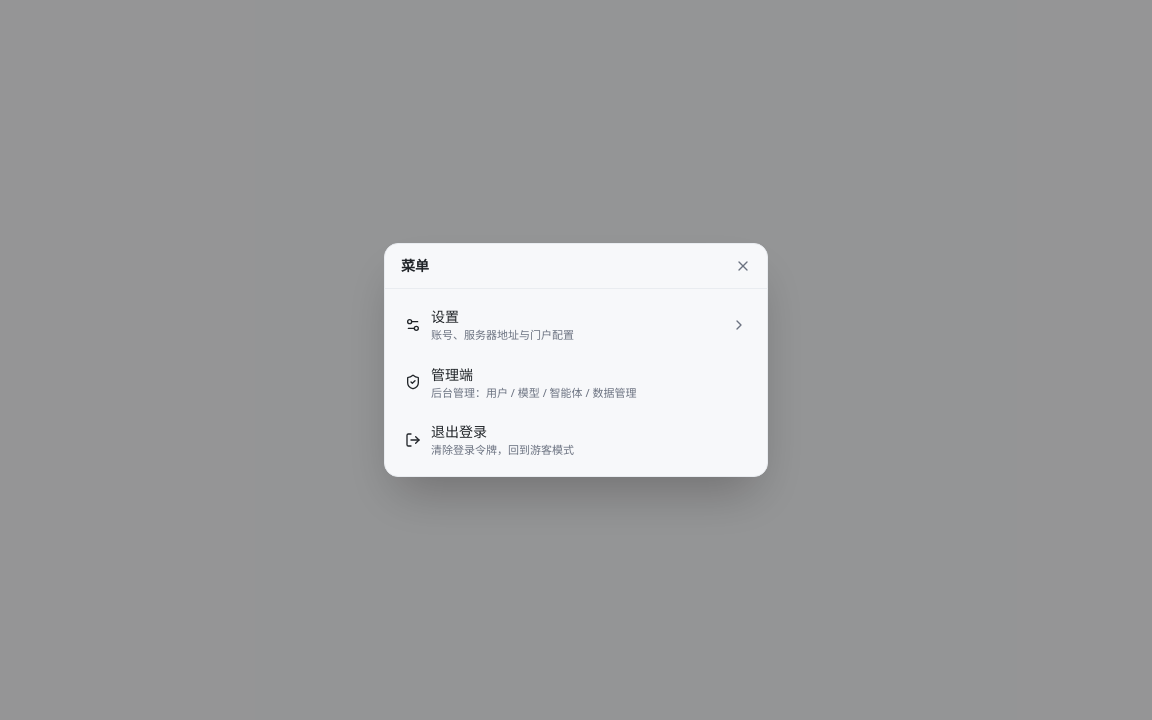
Test: 菜单面板 · MenuPanel › renderPanel：点击"设置"进入子界面（打开即返回菜单列表能力）
The width and height of the screenshot is (1152, 720).
Click the text "设置" at point(445, 316), box x1=431 y1=307 x2=459 y2=326
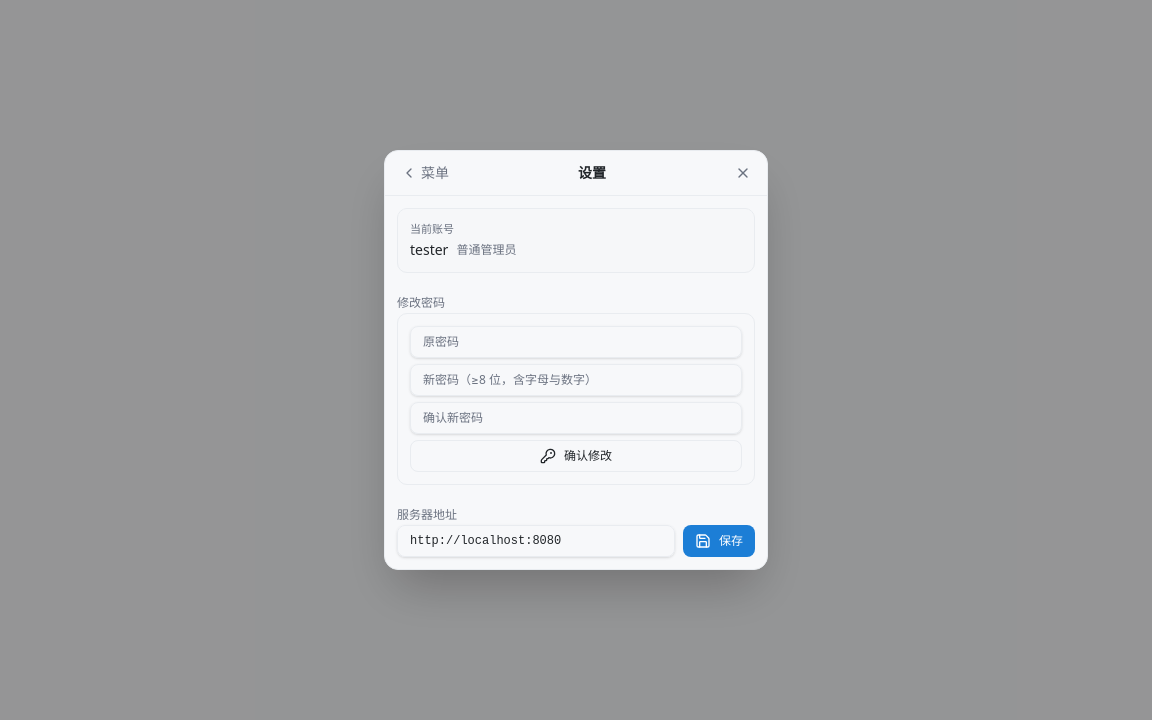
Expected: the text "服务器地址" is shown, x1=397 y1=506 x2=457 y2=523
Note: 子界面顶部返回"菜单"按钮（ctx.back）
Click the button "菜单" at point(425, 173), box x1=401 y1=163 x2=449 y2=183
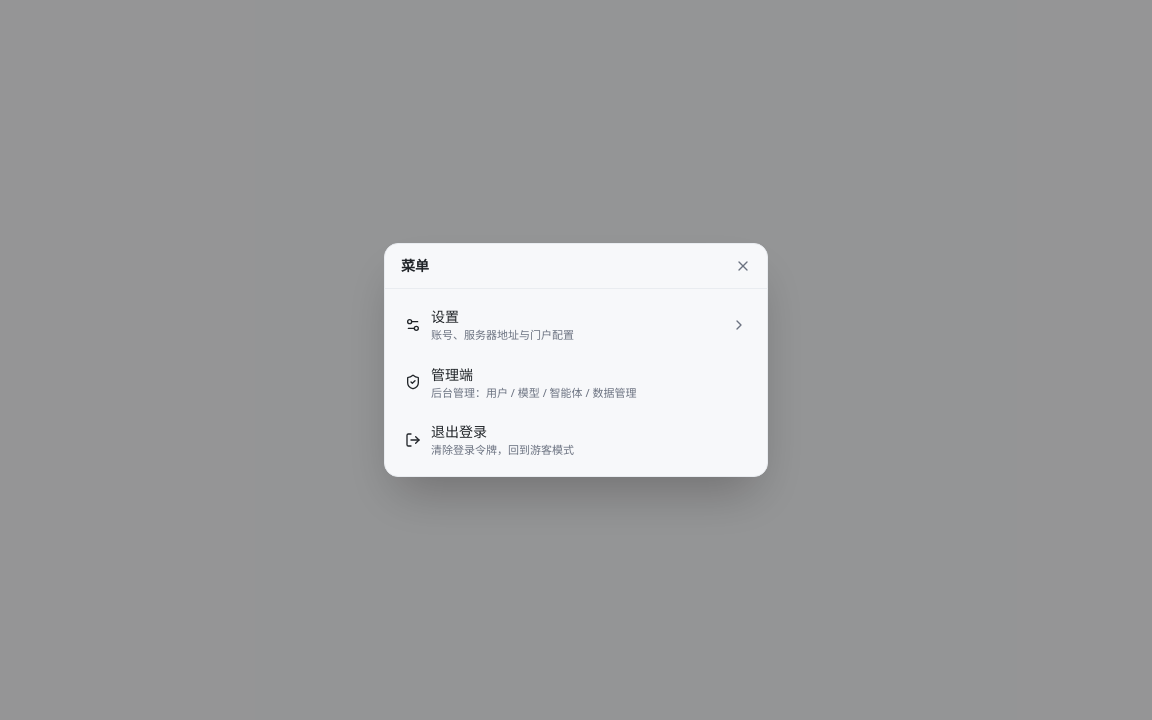
Result: the text "管理端" is shown at x1=431 y1=365 x2=473 y2=384
